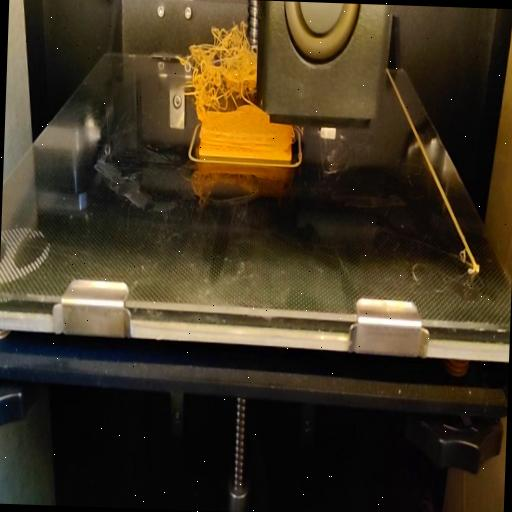spaghetti: (176, 14, 258, 114)
